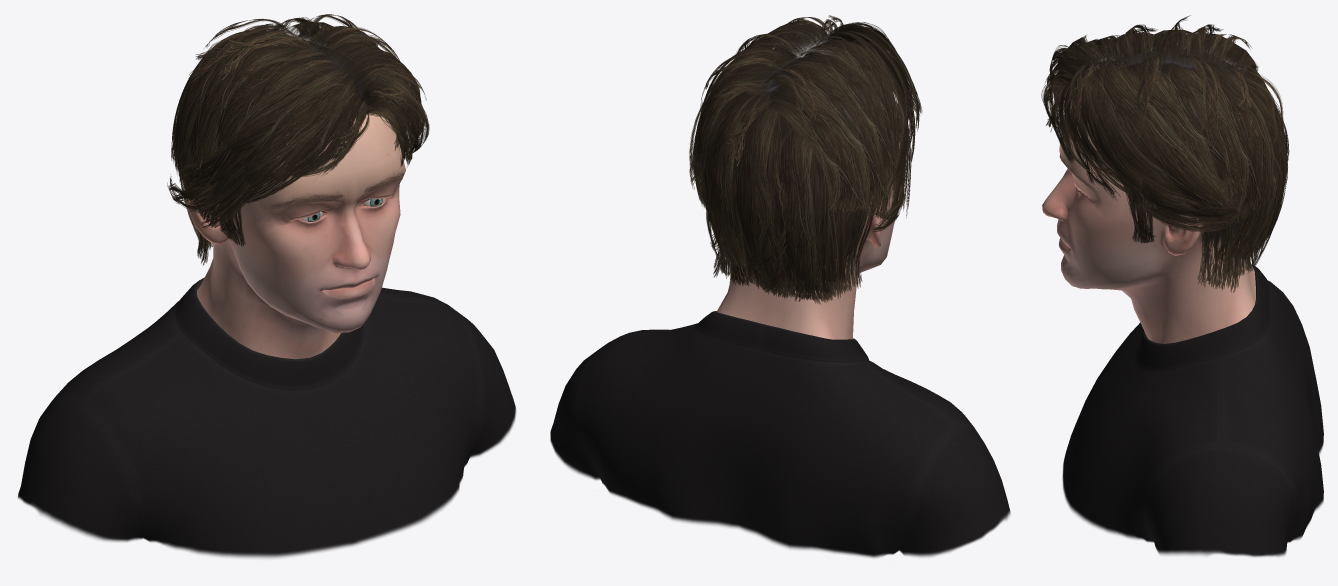
The model's file is humanoid_head.glb.
3 renders of one model, left to right at view 1: azimuth 30°, elevation 25°; view 2: azimuth 150°, elevation 25°; view 3: azimuth 270°, elevation 25°, orthographic. The views are drawn at different scales.
Parts seen in each view (by area): view 1: tShirt_low, geo_hair-card_3.006, head_low; view 2: tShirt_low, geo_hair-card_3.006, head_low; view 3: tShirt_low, geo_hair-card_3.006, head_low.
Boxes of the visible parts, x1,y1,x2,y2 form: tShirt_low: (18, 278, 516, 558); geo_hair-card_3.006: (167, 14, 429, 265); head_low: (188, 43, 405, 359); tShirt_low: (550, 311, 1010, 557); geo_hair-card_3.006: (689, 15, 922, 304); head_low: (714, 58, 900, 339); tShirt_low: (1062, 265, 1323, 556); geo_hair-card_3.006: (1041, 15, 1289, 292); head_low: (1042, 50, 1259, 343).
Size of the model in its own units: 4.81 by 4.68 by 2.63.
4 materials, 4 textured.
